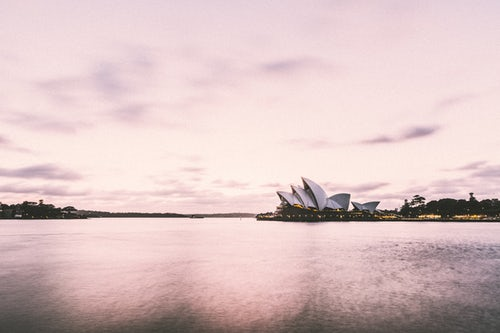opera house: (225, 168, 415, 227)
